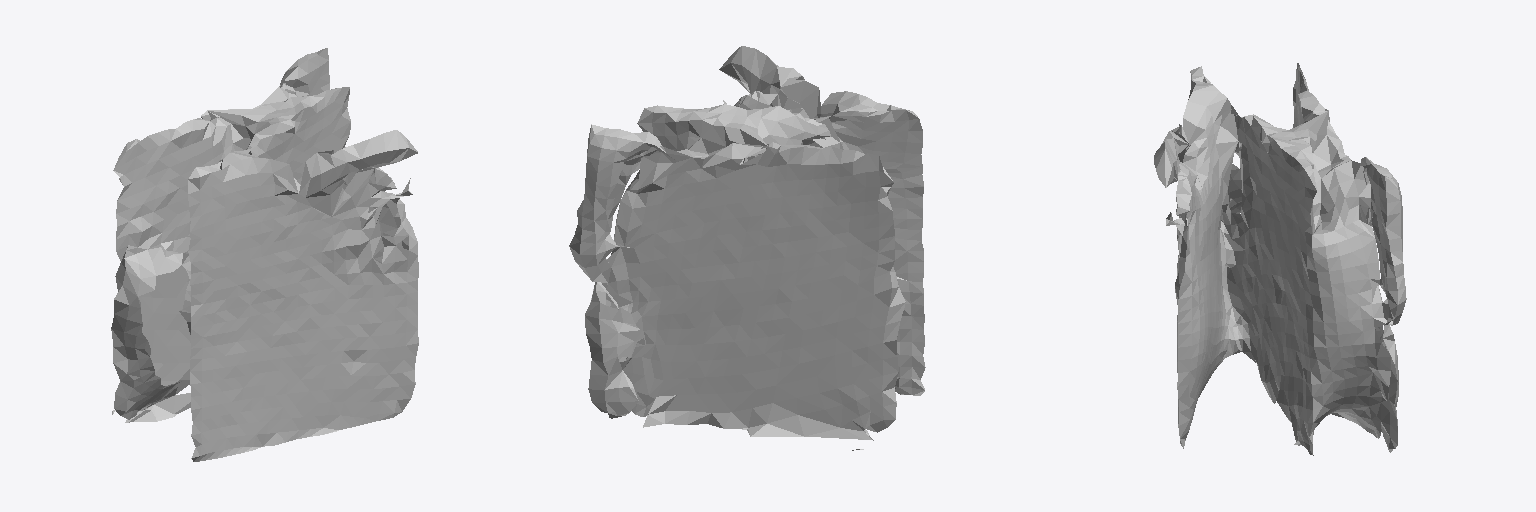
File: Tosca_Lowpoly.obj
3 renders of one model, left to right at view 1: azimuth 30°, elevation 25°; view 2: azimuth 150°, elevation 25°; view 3: azimuth 270°, elevation 25°, orthographic.
Parts seen in each view (by area): view 1: Tosca_Lowpoly_model.025; view 2: Tosca_Lowpoly_model.025; view 3: Tosca_Lowpoly_model.025.
Boxes of the visible parts, box(x1,y1,x2,y2) form: Tosca_Lowpoly_model.025: box(111, 48, 418, 461); Tosca_Lowpoly_model.025: box(569, 46, 925, 450); Tosca_Lowpoly_model.025: box(1154, 63, 1406, 455).
Bounding box in the file's own units: 3.12 × 3.15 × 2.44.